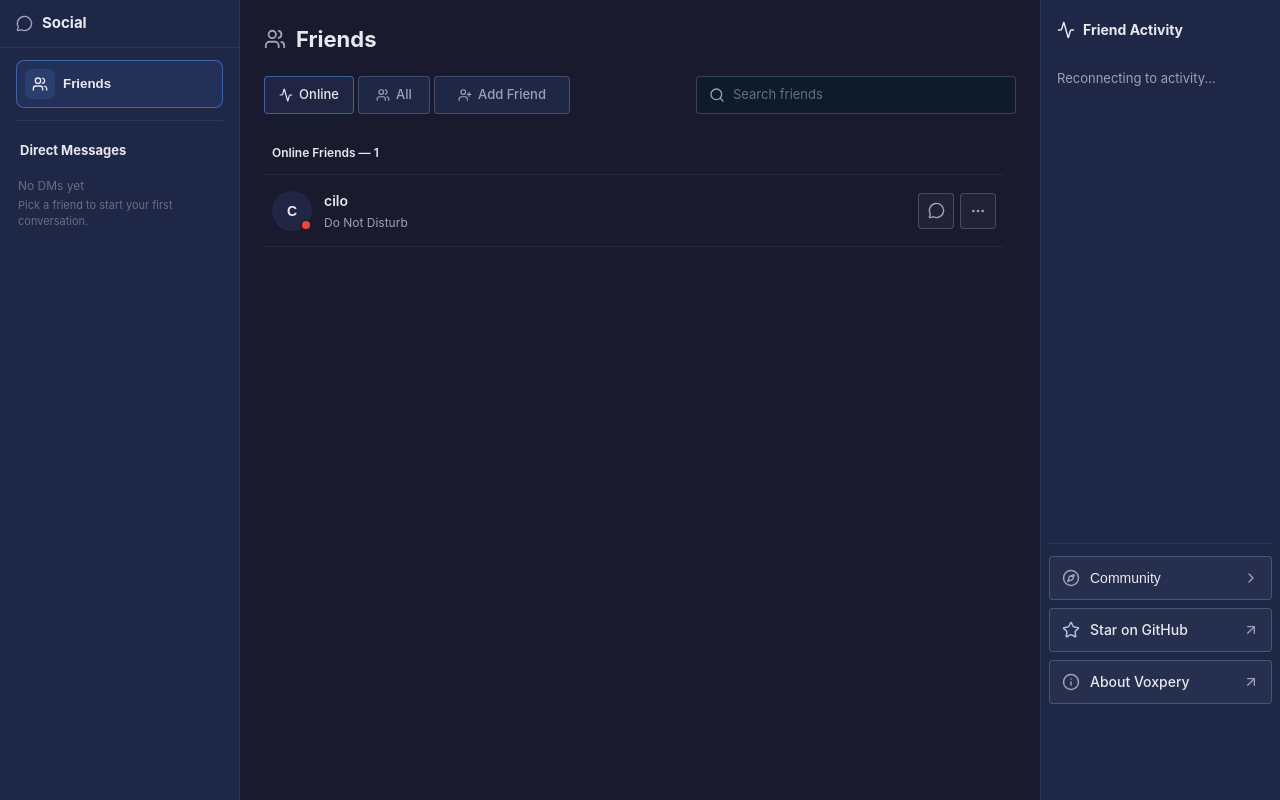
Test: HomePage friends list › opens the friend context menu from the more-actions button
Click the button named "More actions for cilo": click(978, 210) top-left (960, 192), bottom-right (996, 228)
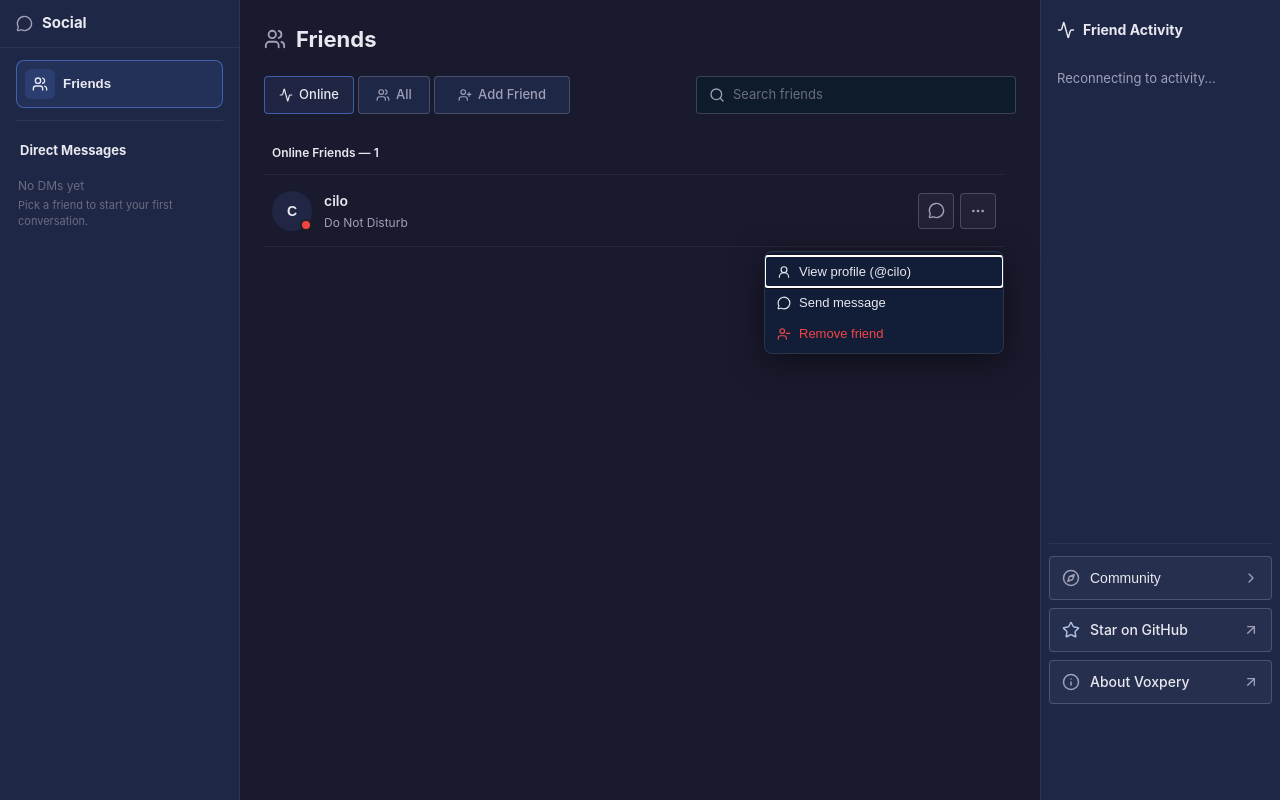
Expected: the menu named "Actions for cilo" is shown, top-left (764, 251), bottom-right (1004, 354)
Expected: the menu item "View profile (@cilo)" is shown, top-left (765, 256), bottom-right (1003, 287)
Expected: the menu item "Send message" is shown, top-left (765, 287), bottom-right (1003, 318)
